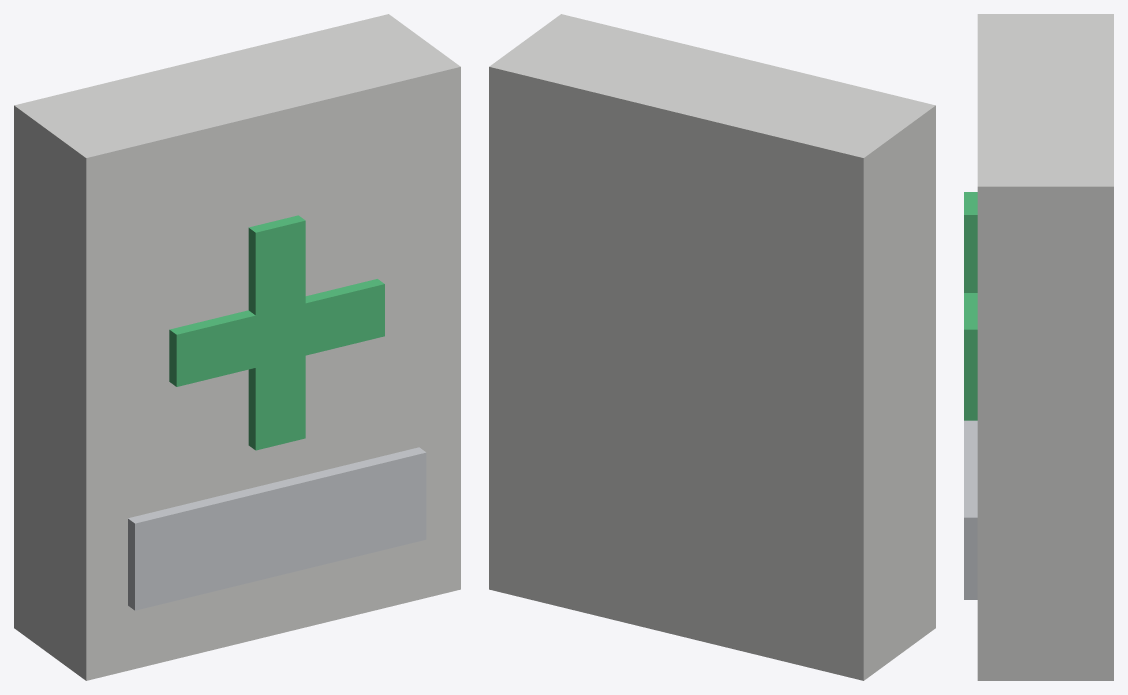
File: antibiotico.glb
3 renders of one model, left to right at view 1: azimuth 30°, elevation 25°; view 2: azimuth 150°, elevation 25°; view 3: azimuth 270°, elevation 25°, orthographic. The views are drawn at different scales.
Parts seen in each view (by area): view 1: antibiotico; view 2: antibiotico; view 3: antibiotico.
Part boxes in pixels (<box>): antibiotico: <box>14,14,460,680</box>; antibiotico: <box>489,14,935,680</box>; antibiotico: <box>964,14,1113,680</box>.
Size of the model in its own units: 0.09 by 0.12 by 0.033.
